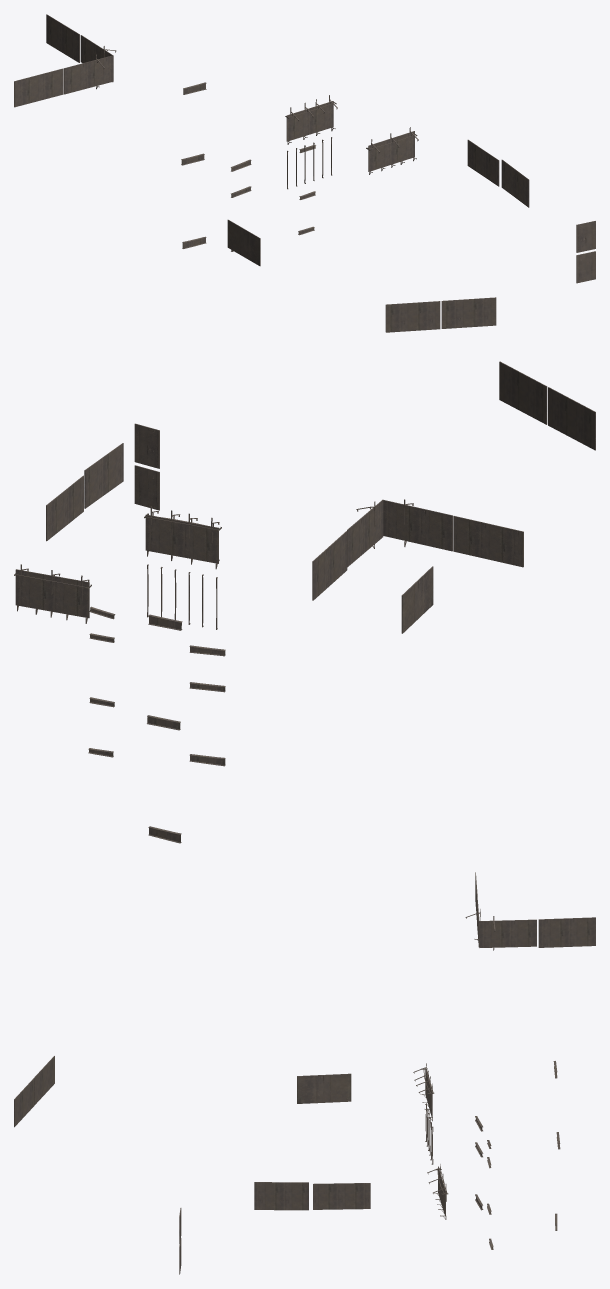
File: SM_Corridor_02_10.fbx
3 renders of one model, top to bottom at view 1: azimuth 30°, elevation 25°; view 2: azimuth 150°, elevation 25°; view 3: azimuth 270°, elevation 25°, orthographic. The views are drawn at different scales.
Visible parts, largest first — view 1: SM_Corridor_02_10; view 2: SM_Corridor_02_10; view 3: SM_Corridor_02_10.
Boxes of the visible parts, bbox=[...] form: SM_Corridor_02_10: bbox=[14, 14, 595, 332]; SM_Corridor_02_10: bbox=[14, 361, 595, 843]; SM_Corridor_02_10: bbox=[14, 872, 595, 1274].
Bounding box in the file's own units: 6871 × 3837 × 8069.
